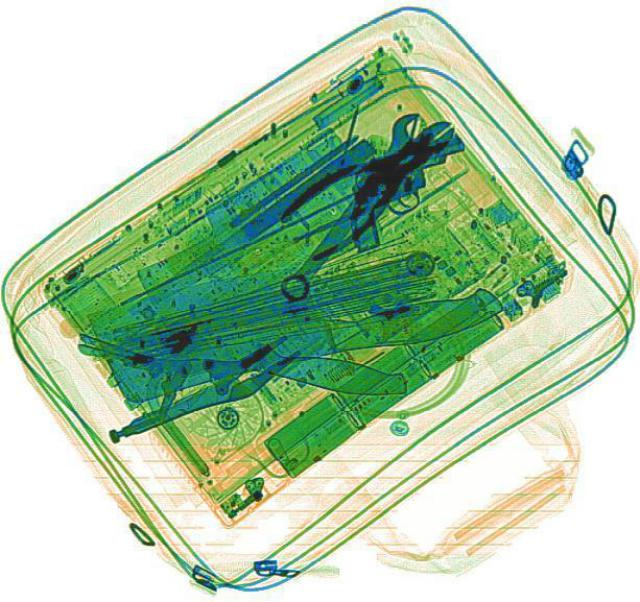Gun: (322, 127, 492, 250)
Knife: (83, 220, 503, 408), (141, 318, 409, 403)
Pliers: (272, 104, 478, 257)
Wrench: (265, 105, 443, 307)
